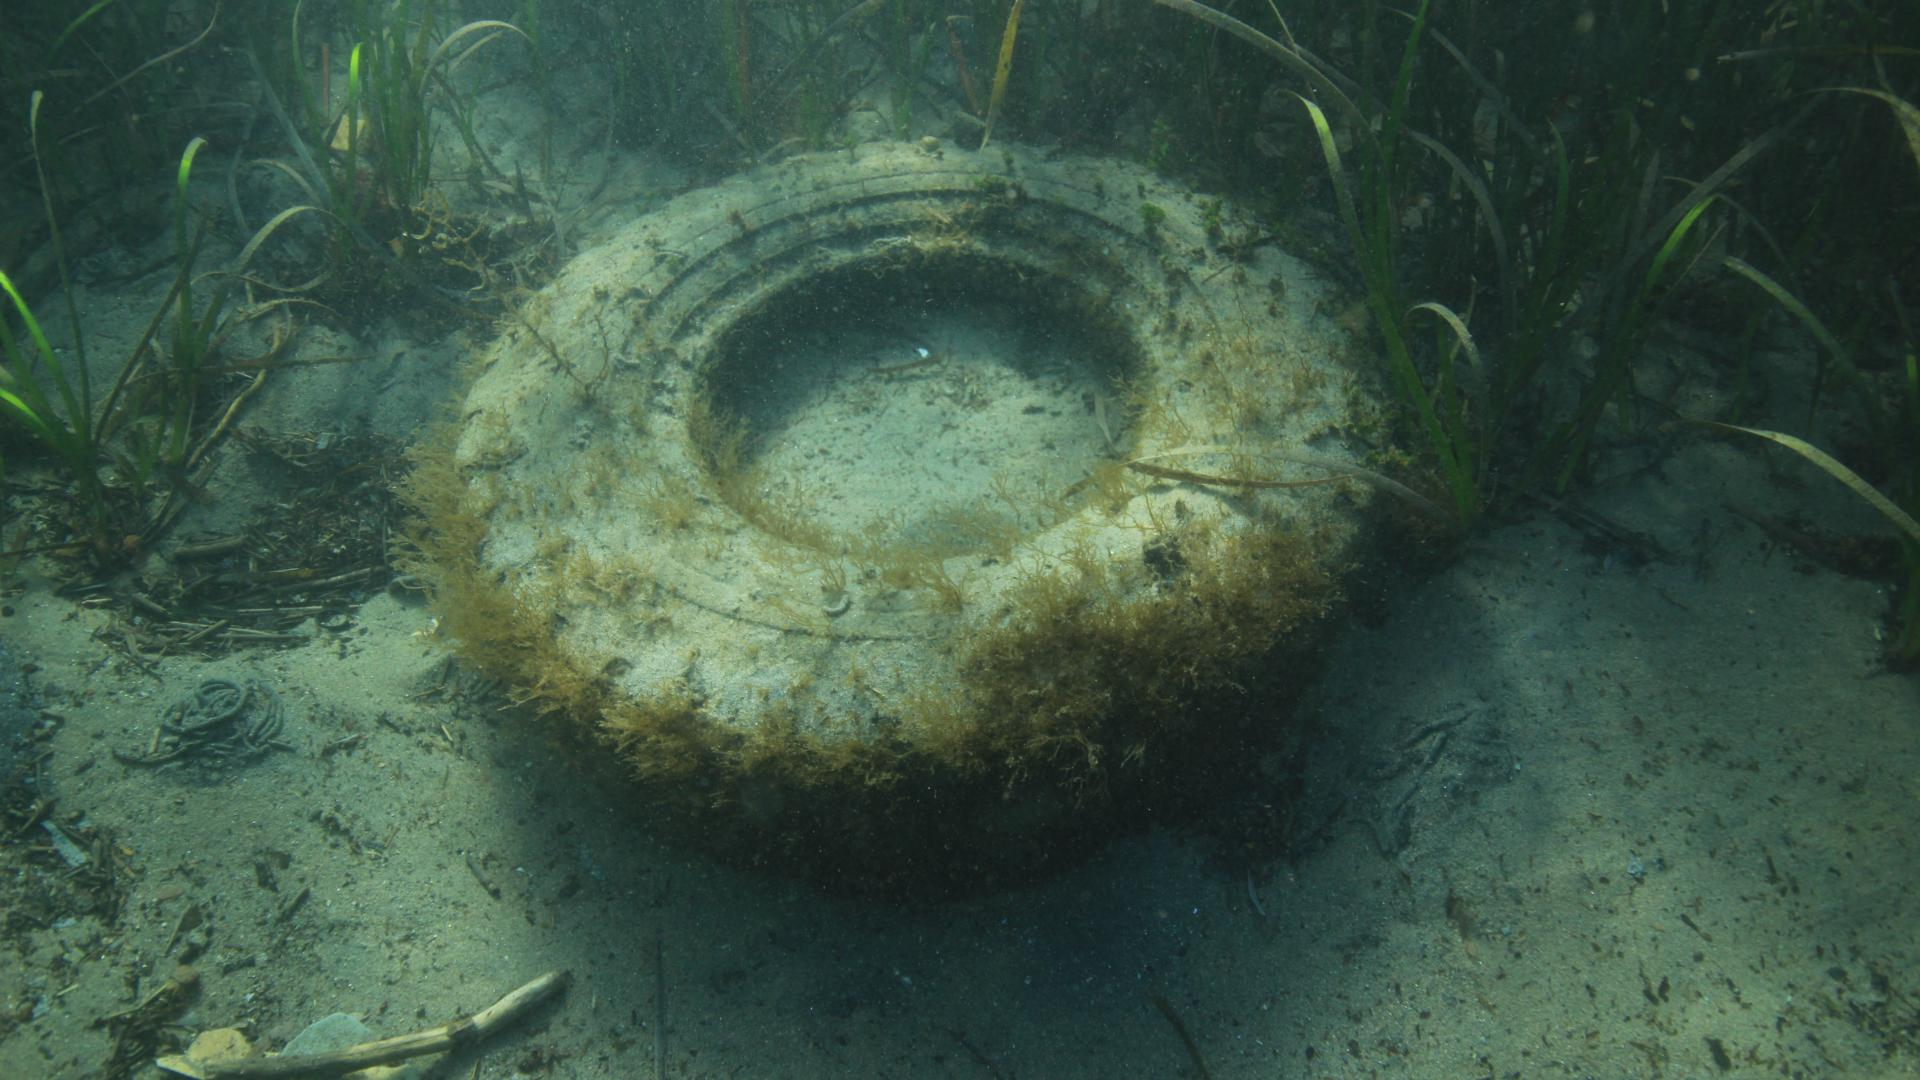tire: (451, 133, 1385, 902)
